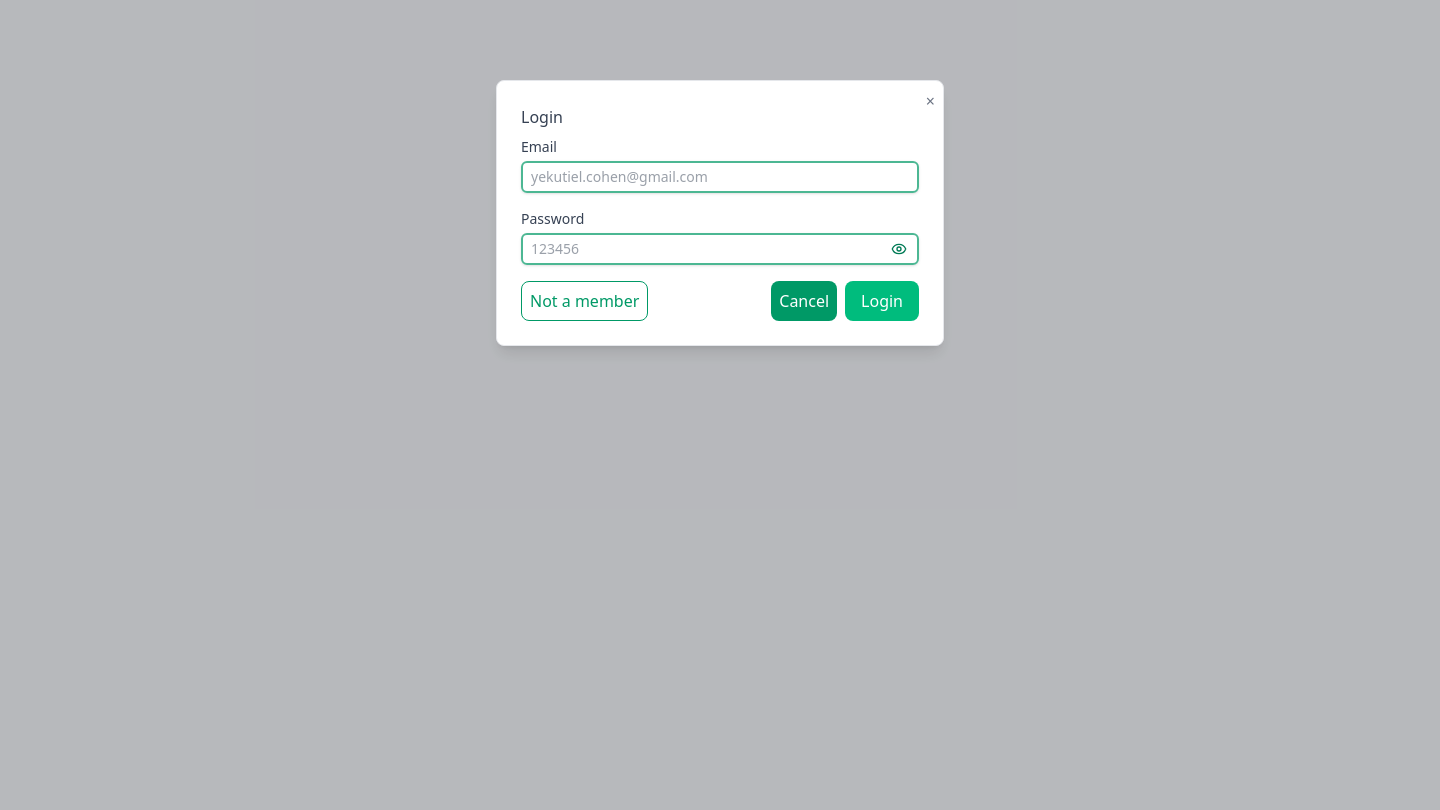
it: LoginForm › validation › requires a password
In the field labelled "Email": [720, 177] box [521,161,919,193], type "a@b.com"
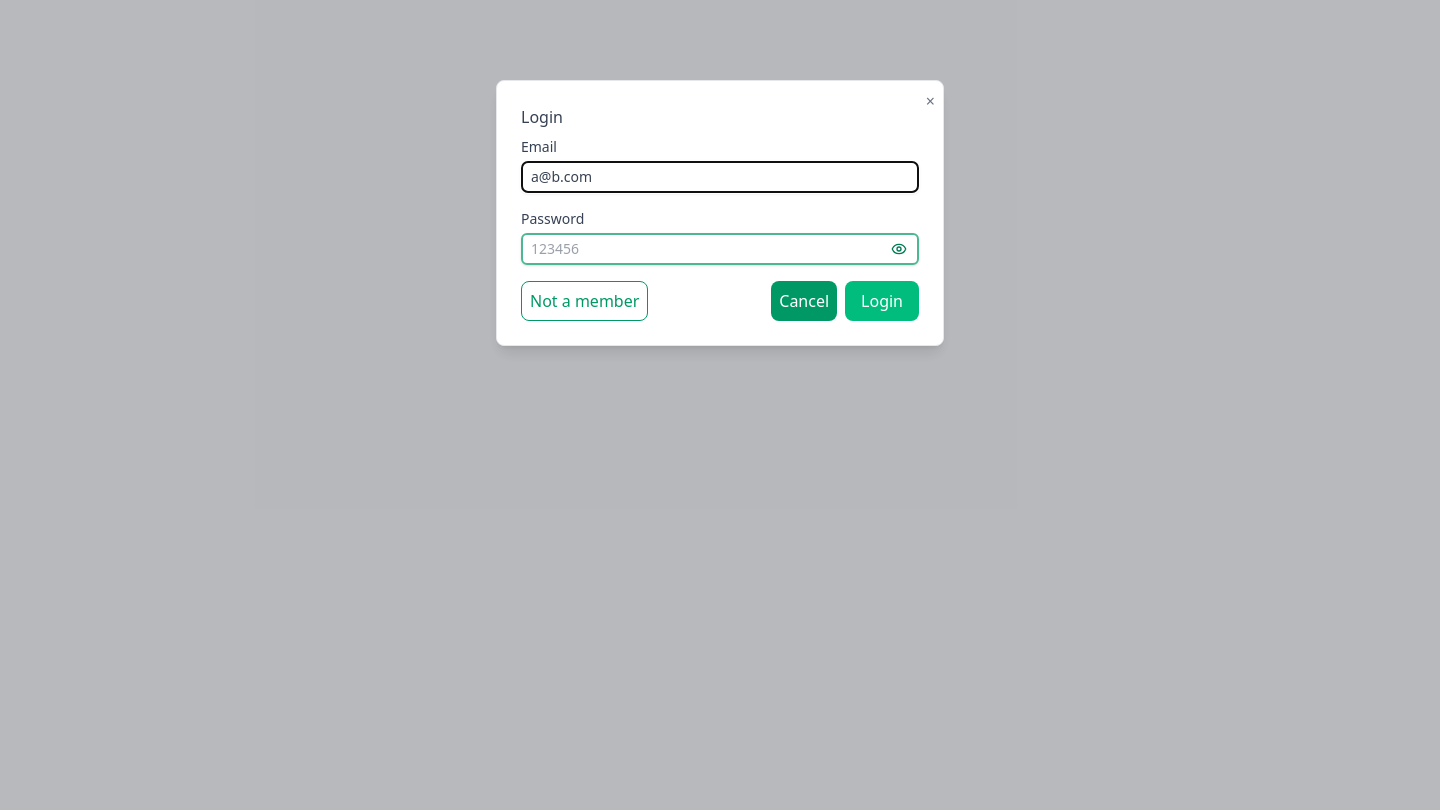
Click the button "Login": [882, 301] box [845,281,919,321]
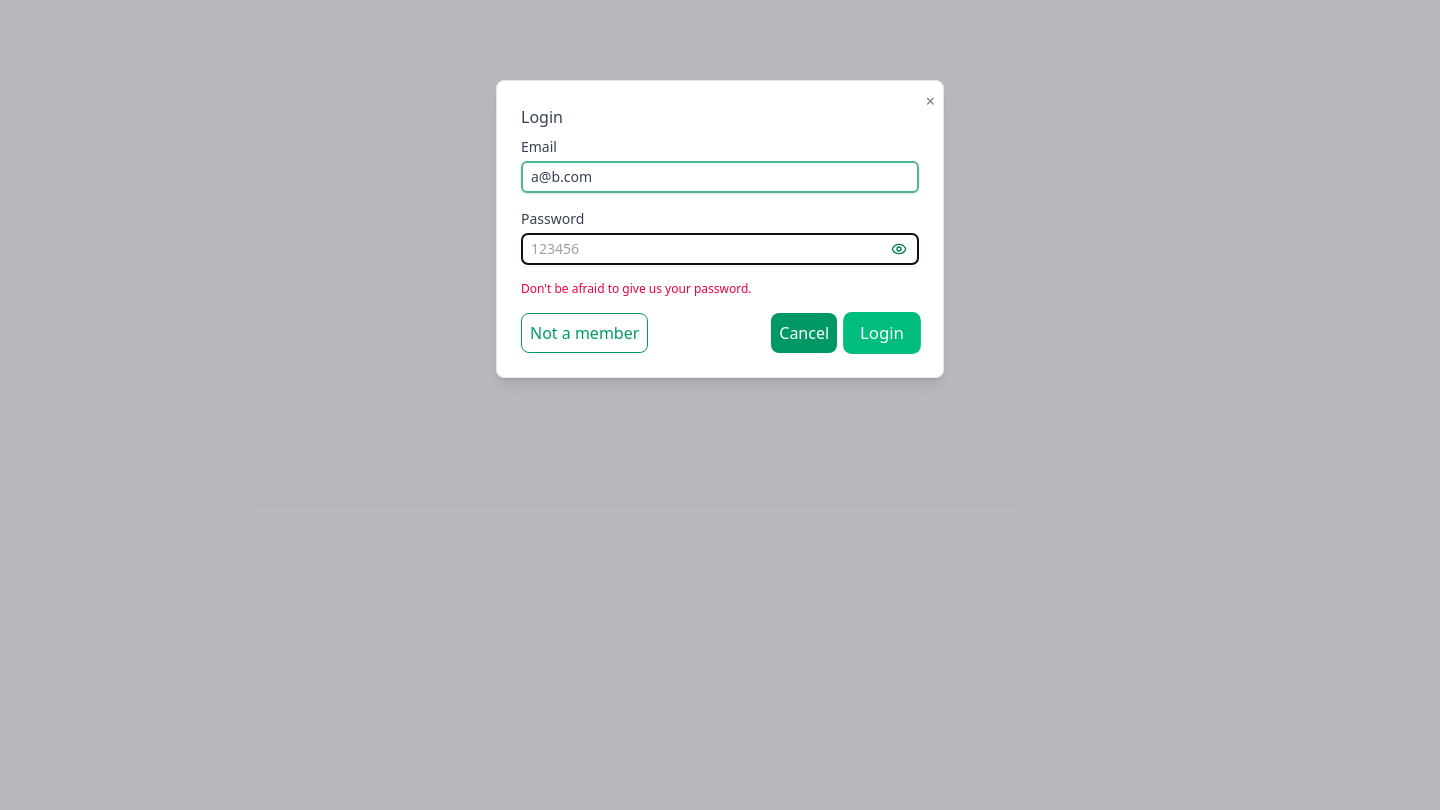
Expected: the text "Don't be afraid to give us your password." is shown, [521,280,752,297]
